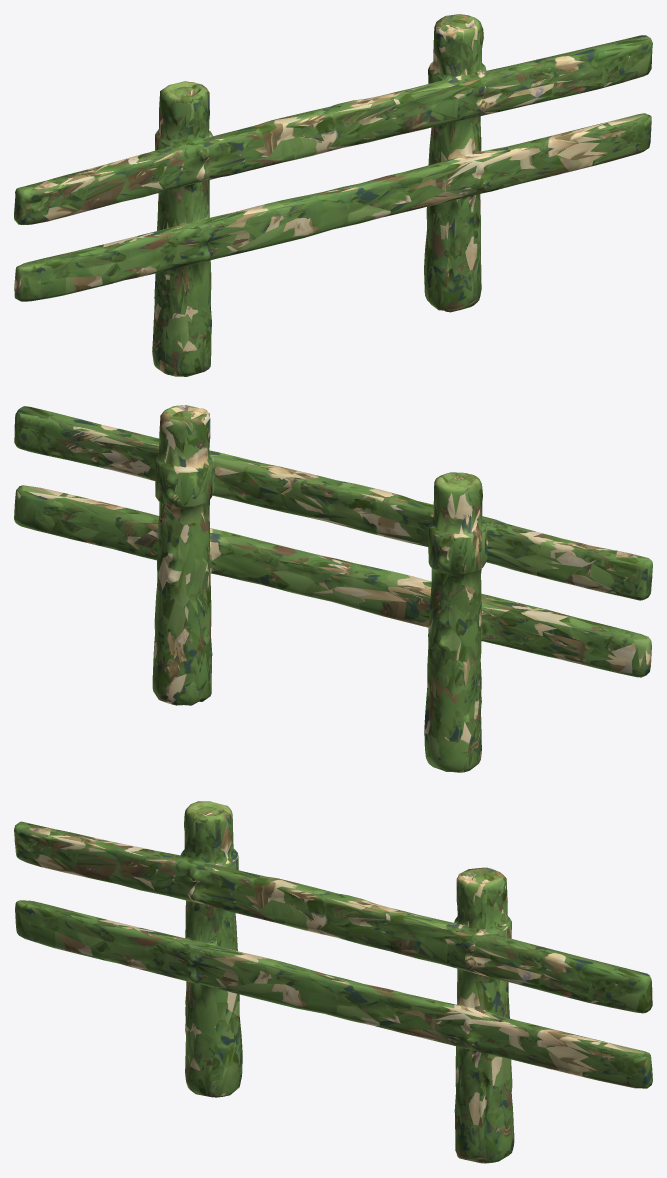
File: Building_FenceMiddle.fbx
The picture shows the model from 3 angles, top to bottom: view 1: azimuth 30°, elevation 25°; view 2: azimuth 150°, elevation 25°; view 3: azimuth 330°, elevation 25°; orthographic projection.
Visible parts, largest first — view 1: Mesh_0; view 2: Mesh_0; view 3: Mesh_0.
Part boxes in pixels (bbox=[...]): Mesh_0: bbox=[14, 14, 652, 376]; Mesh_0: bbox=[14, 405, 652, 772]; Mesh_0: bbox=[14, 801, 652, 1163].
Size of the model in its own units: 190 by 80.83 by 19.67.
